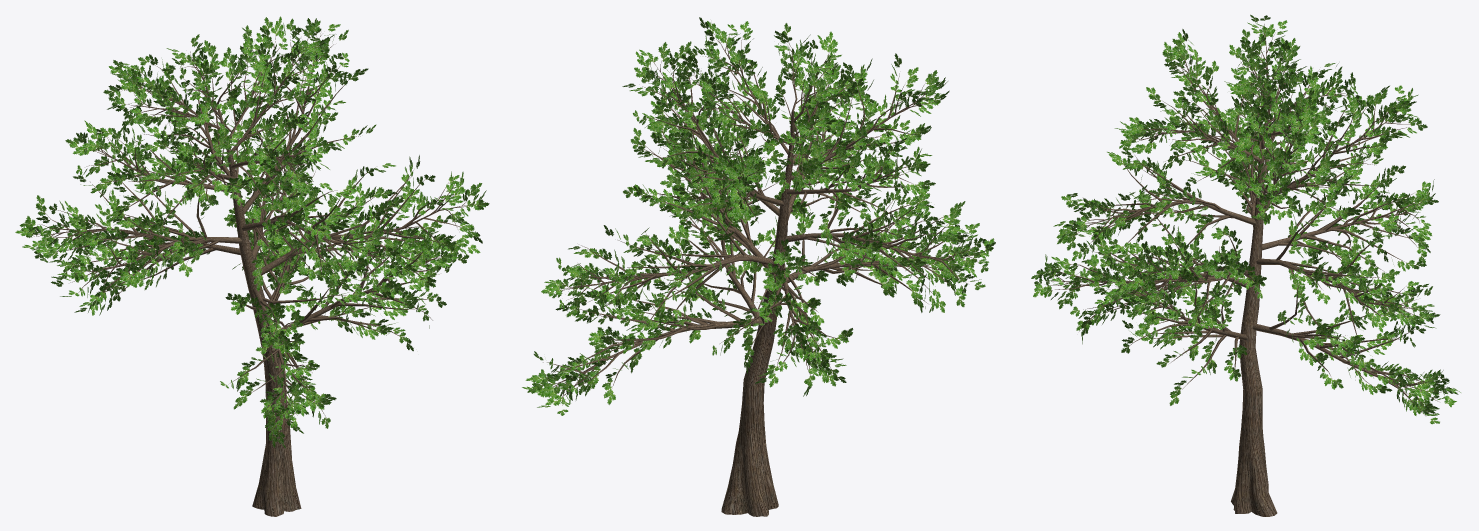
File: OakTreeM03.FBX
3 renders of one model, left to right at view 1: azimuth 30°, elevation 25°; view 2: azimuth 150°, elevation 25°; view 3: azimuth 270°, elevation 25°, orthographic. The views are drawn at different scales.
Visible parts, largest first — view 1: OakTree03; view 2: OakTree03; view 3: OakTree03.
Part boxes in pixels (bbox=[...]): OakTree03: bbox=[15, 16, 489, 516]; OakTree03: bbox=[522, 17, 995, 516]; OakTree03: bbox=[1031, 14, 1460, 516].
Bounding box in the file's own units: 6.09 × 7.28 × 6.26.
